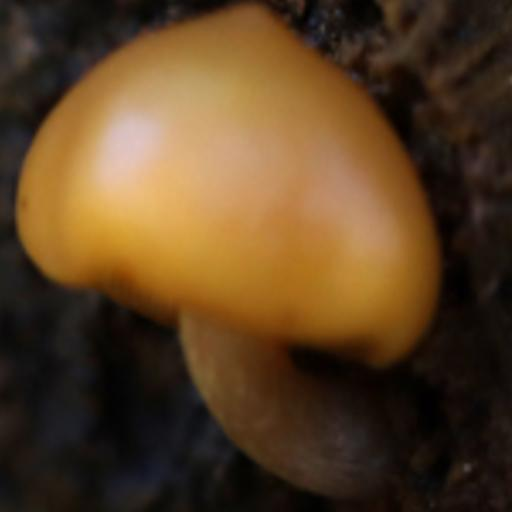mushroom: (10, 8, 451, 478)
